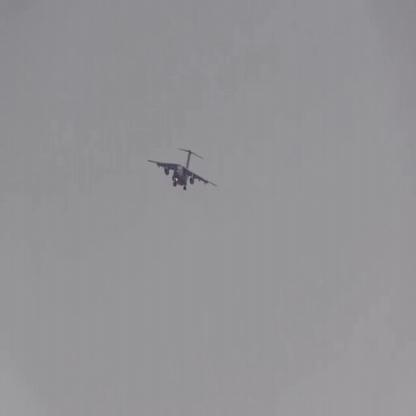CIV_Plane: (144, 143, 218, 190)
